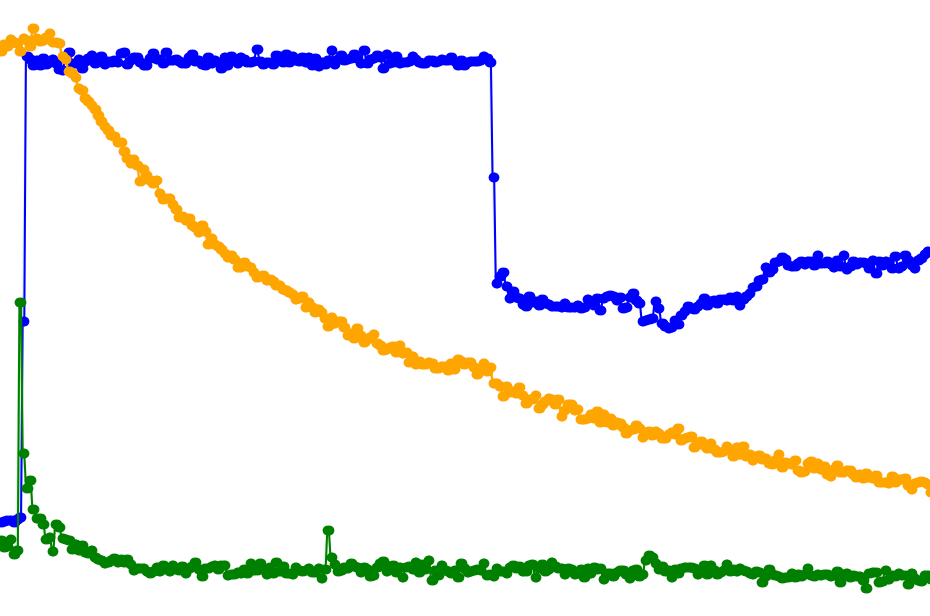CO2 Problem: (388, 0, 661, 616), (661, 0, 930, 616), (116, 0, 272, 616), (388, 0, 505, 616), (272, 0, 388, 616), (816, 0, 930, 616), (777, 0, 816, 616)
Condensation CO2: (116, 0, 272, 616), (116, 0, 233, 616), (388, 0, 505, 616), (272, 0, 388, 616), (38, 0, 116, 616)
Low O2: (583, 0, 930, 616), (661, 0, 930, 616), (699, 0, 930, 616), (777, 0, 930, 616), (816, 0, 930, 616)
Normal: (388, 0, 930, 616), (505, 0, 930, 616), (0, 0, 388, 616), (583, 0, 930, 616), (388, 0, 661, 616), (0, 0, 272, 616), (661, 0, 930, 616), (388, 0, 622, 616), (699, 0, 930, 616), (388, 0, 583, 616), (738, 0, 930, 616), (116, 0, 272, 616), (777, 0, 930, 616), (116, 0, 233, 616), (388, 0, 505, 616), (0, 0, 116, 616), (272, 0, 388, 616), (816, 0, 930, 616), (0, 0, 77, 616), (661, 0, 738, 616), (777, 0, 816, 616)
O2 Problem: (388, 0, 930, 616), (738, 0, 930, 616), (116, 0, 272, 616), (388, 0, 505, 616), (272, 0, 388, 616)
